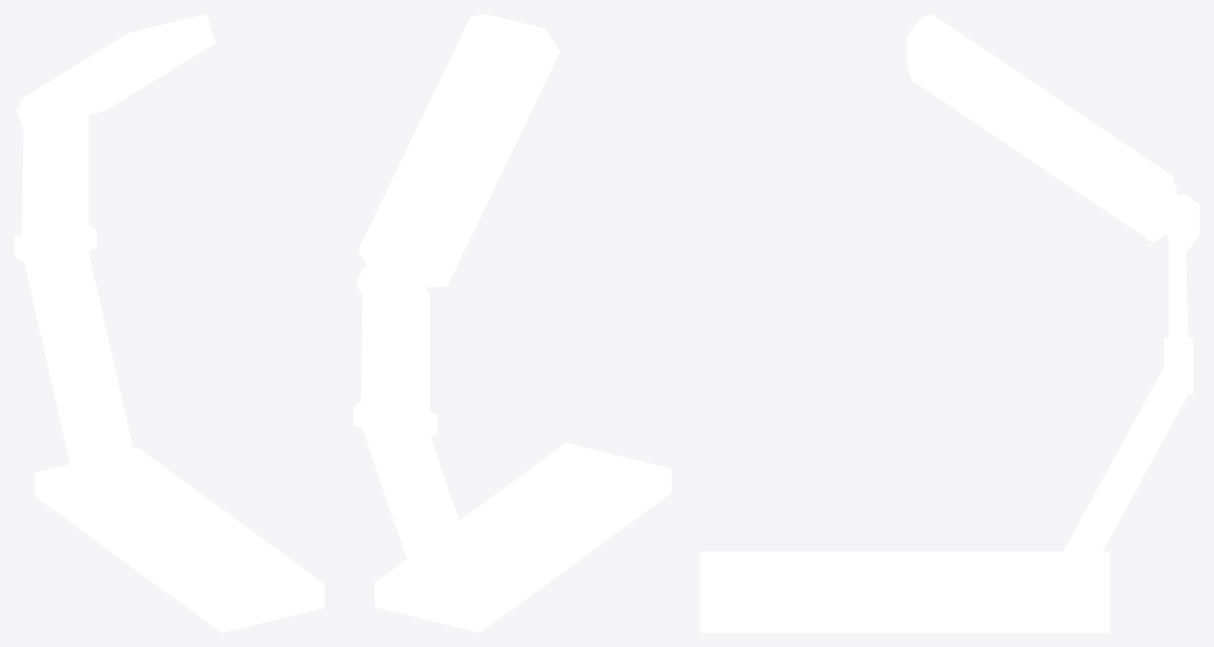
Rendered from lamp.glb.
3 views of the same model, side by side, from view 1: azimuth 30°, elevation 25°; view 2: azimuth 150°, elevation 25°; view 3: azimuth 270°, elevation 25° (orthographic). The views are drawn at different scales.
Parts seen in each view (by area): view 1: lamp; view 2: lamp; view 3: lamp.
Boxes of the visible parts, x1,y1,x2,y2 form: lamp: (14, 14, 324, 632); lamp: (353, 14, 671, 632); lamp: (700, 14, 1199, 632).
Size of the model in its own units: 0.3053 by 1.47 by 1.17.
1 material, 1 textured.
